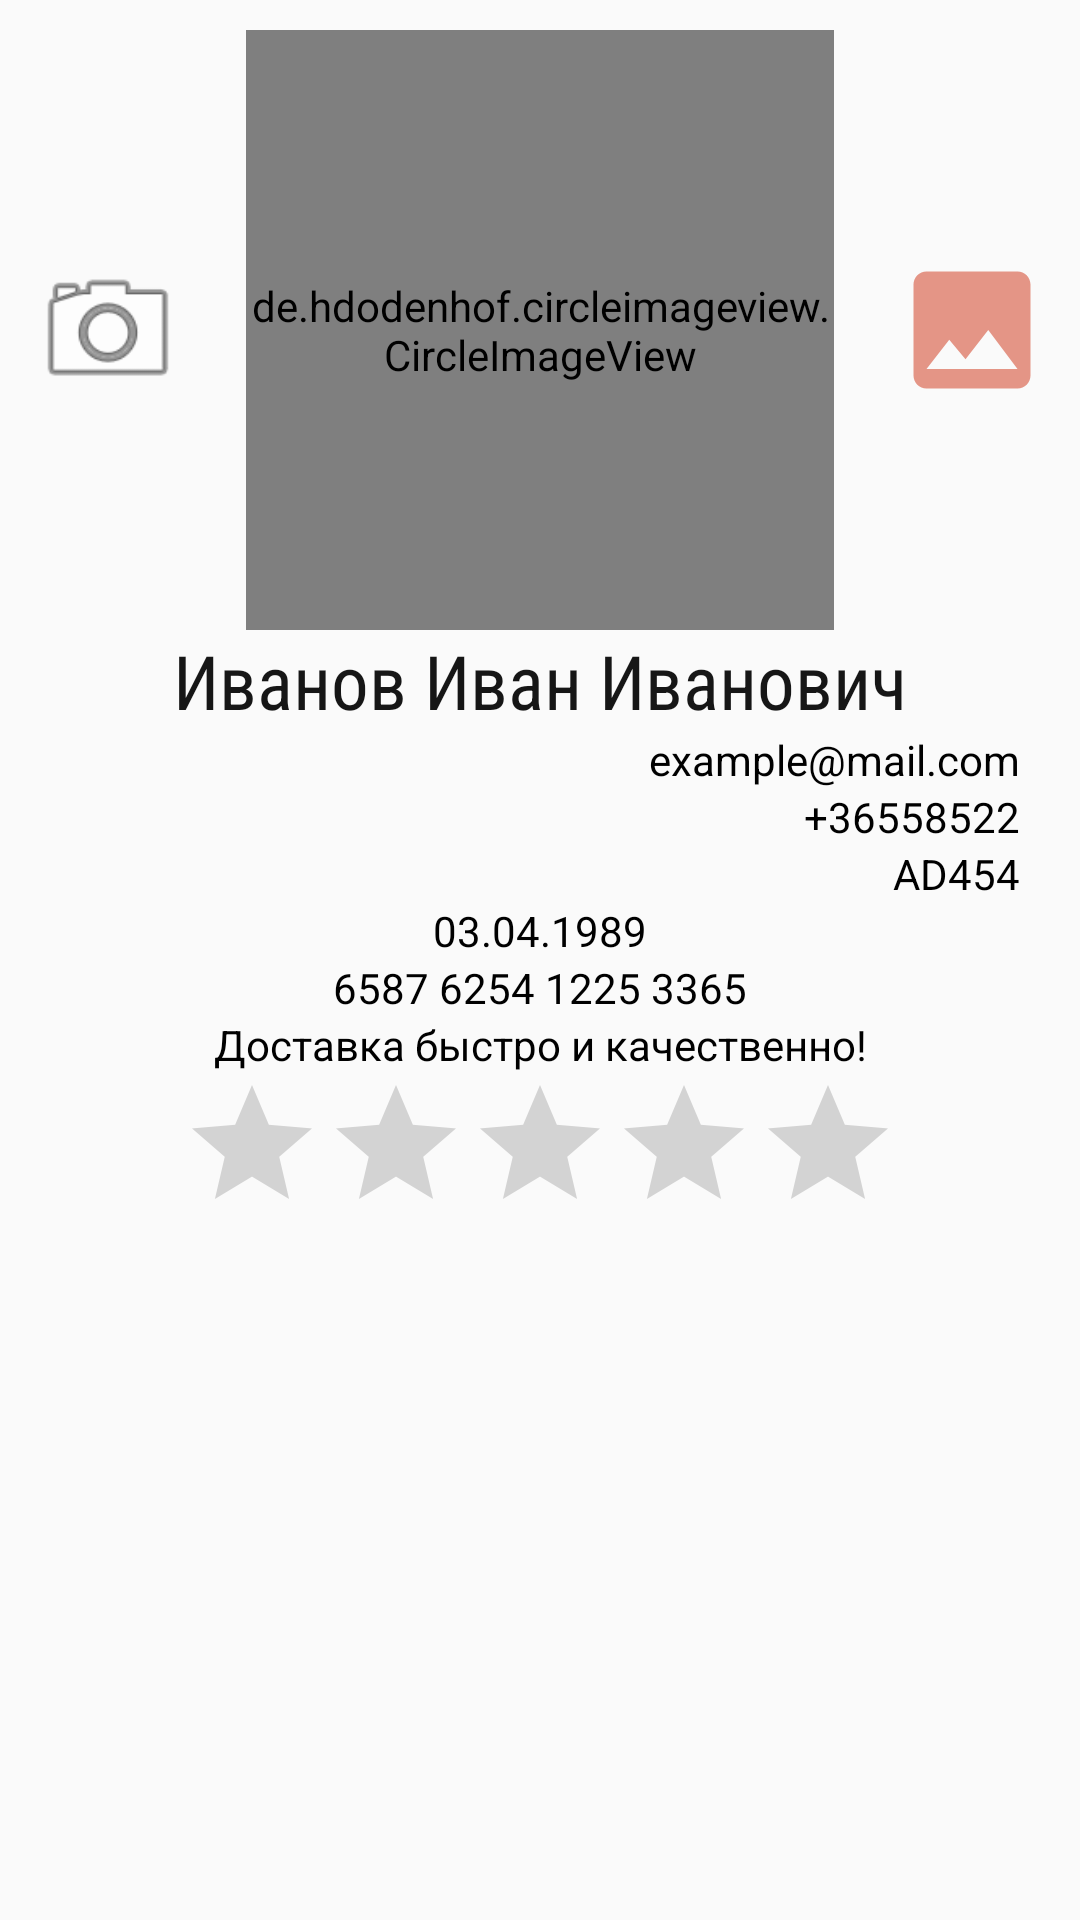

Icons on this 1080 x 1920 Android screen, each with the point to tap as [x,y]:
camera: [108,327]
